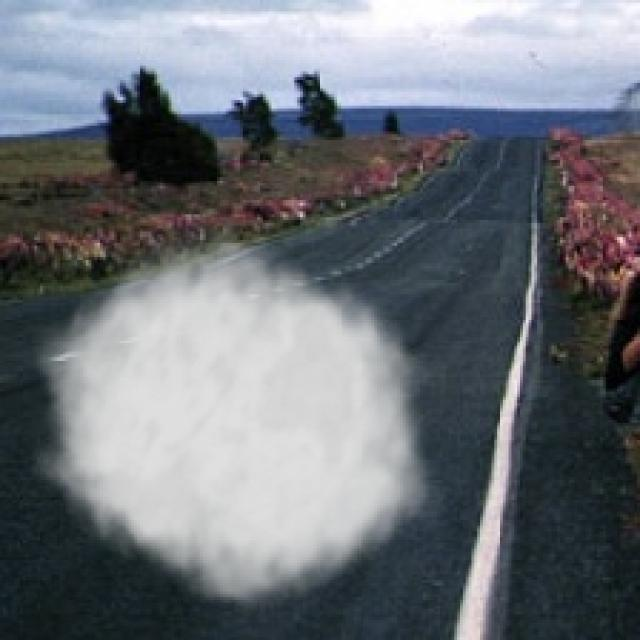Smoke: (31, 220, 446, 617)
